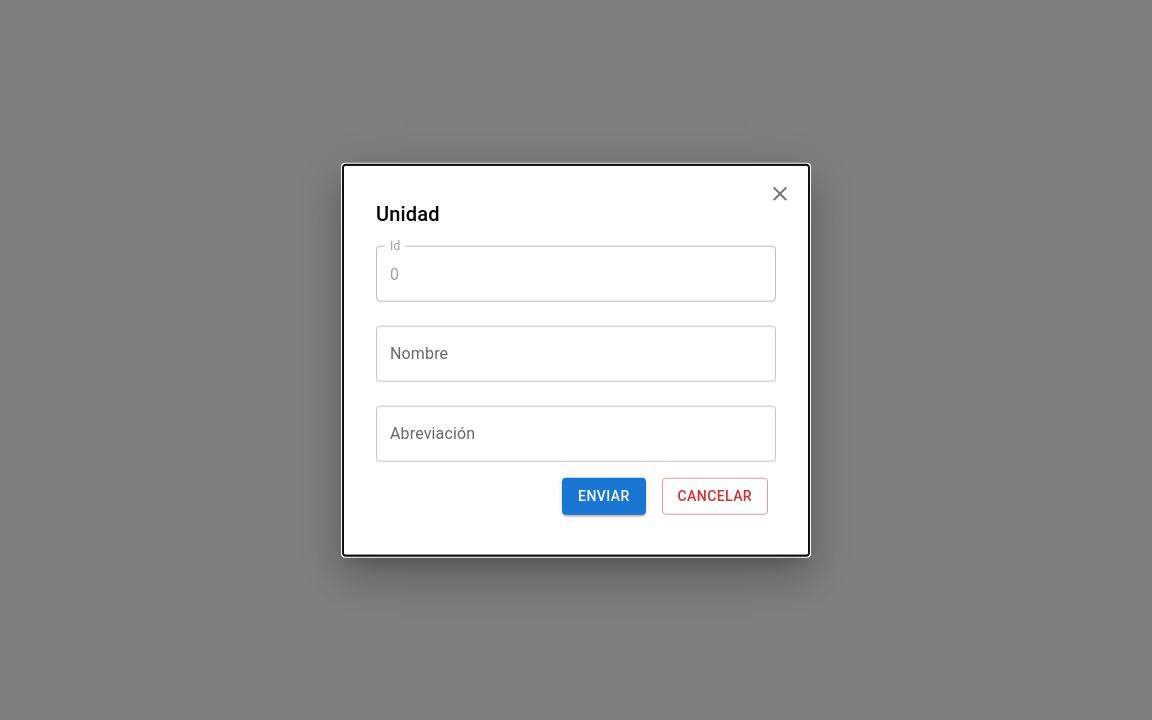
Test: UnidadFormModal › debería mostrar mensaje de error si crearUnidad falla
In the field labelled "Nombre": (576, 354) 376,326 -> 776,382, type "Metro"
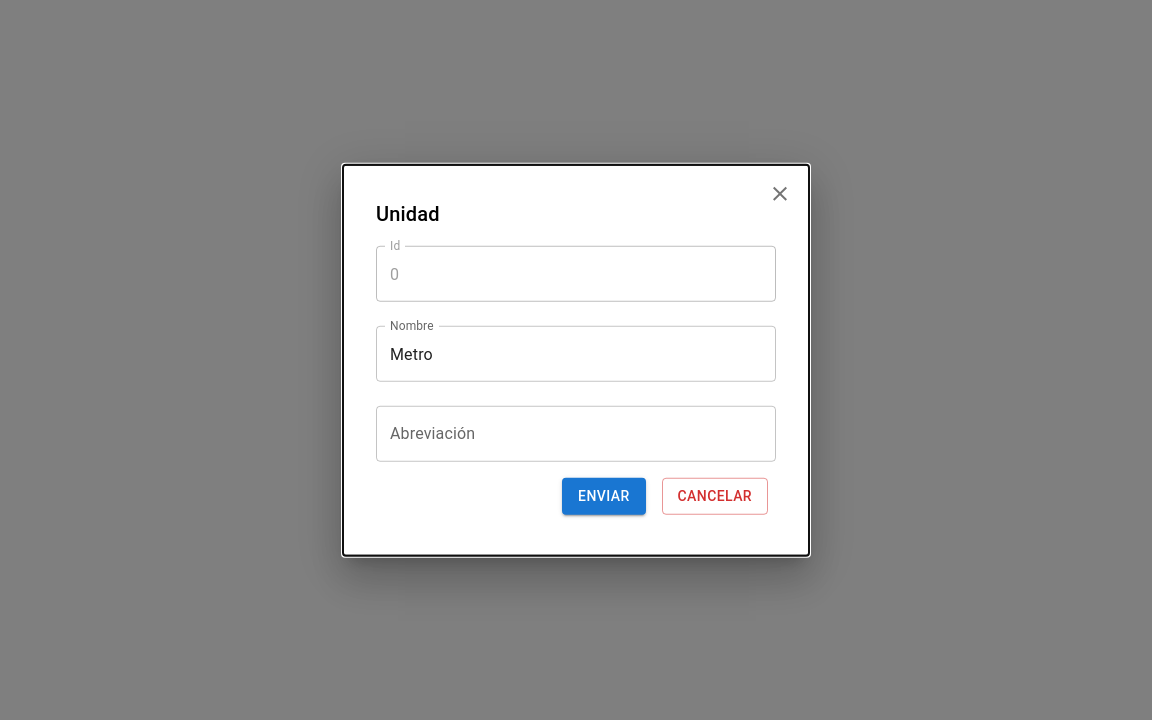
In the field labelled "Abreviación": (576, 434) 376,406 -> 776,462, type "m"
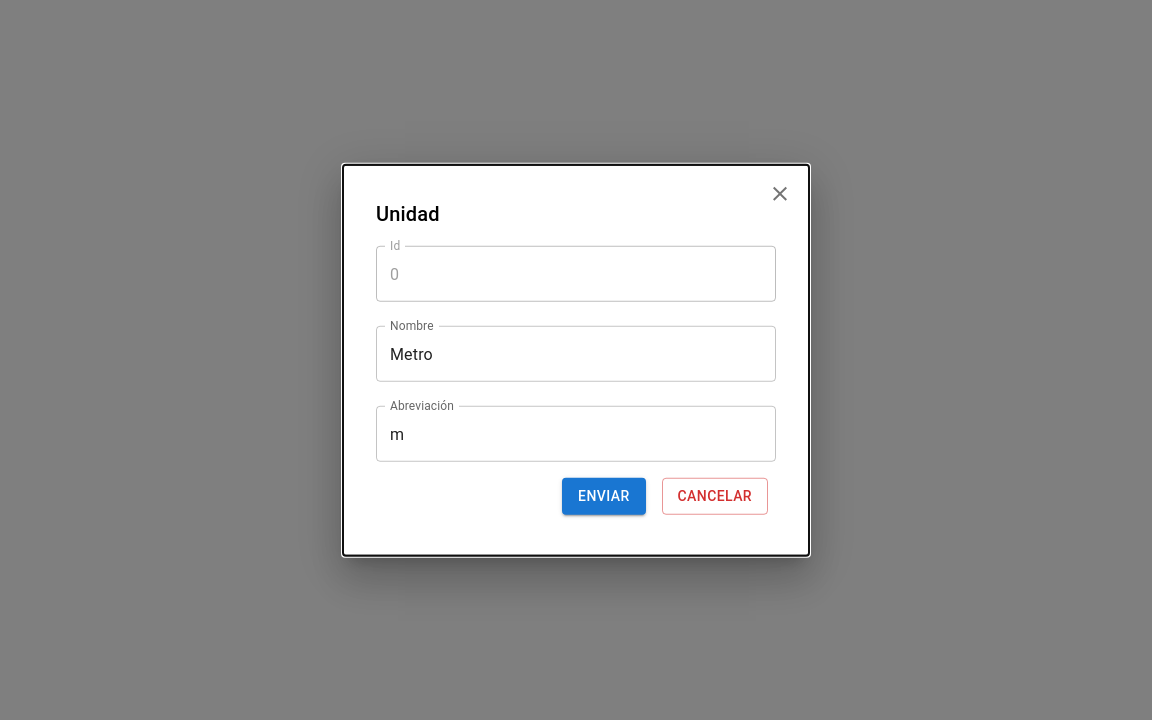
Click the button "Enviar": (604, 496) 562,478 -> 646,514
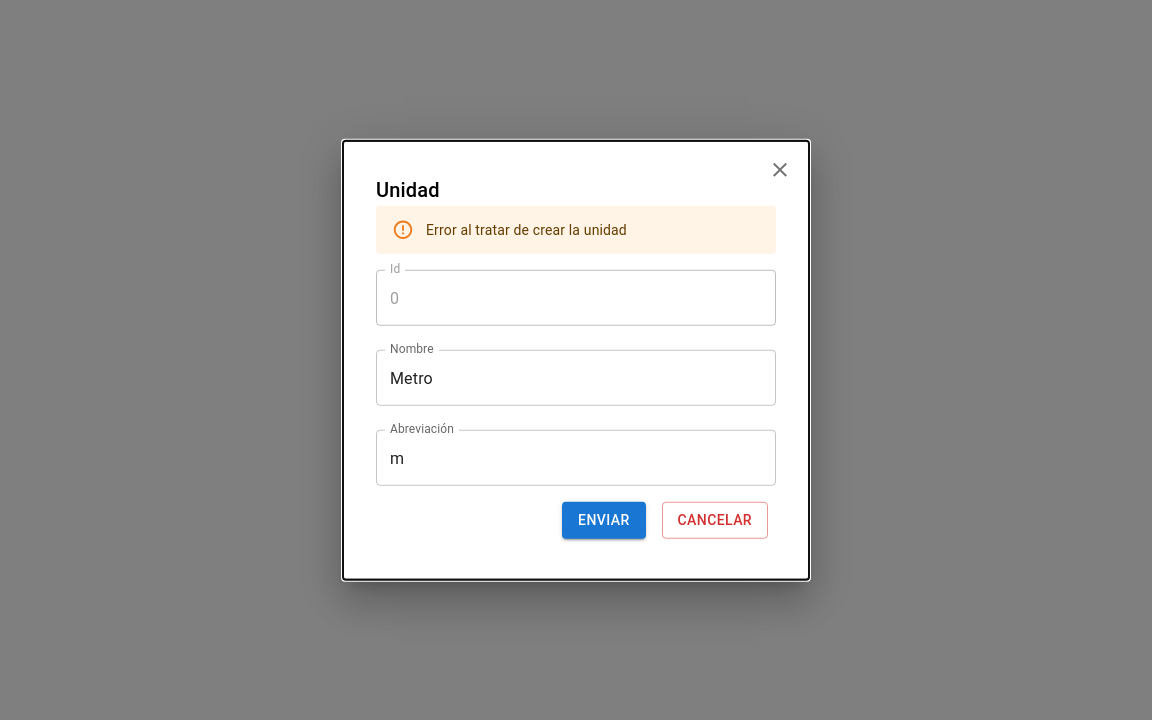
Check: the text "Error al tratar de crear la unidad" is shown, box 426,222 -> 627,238
